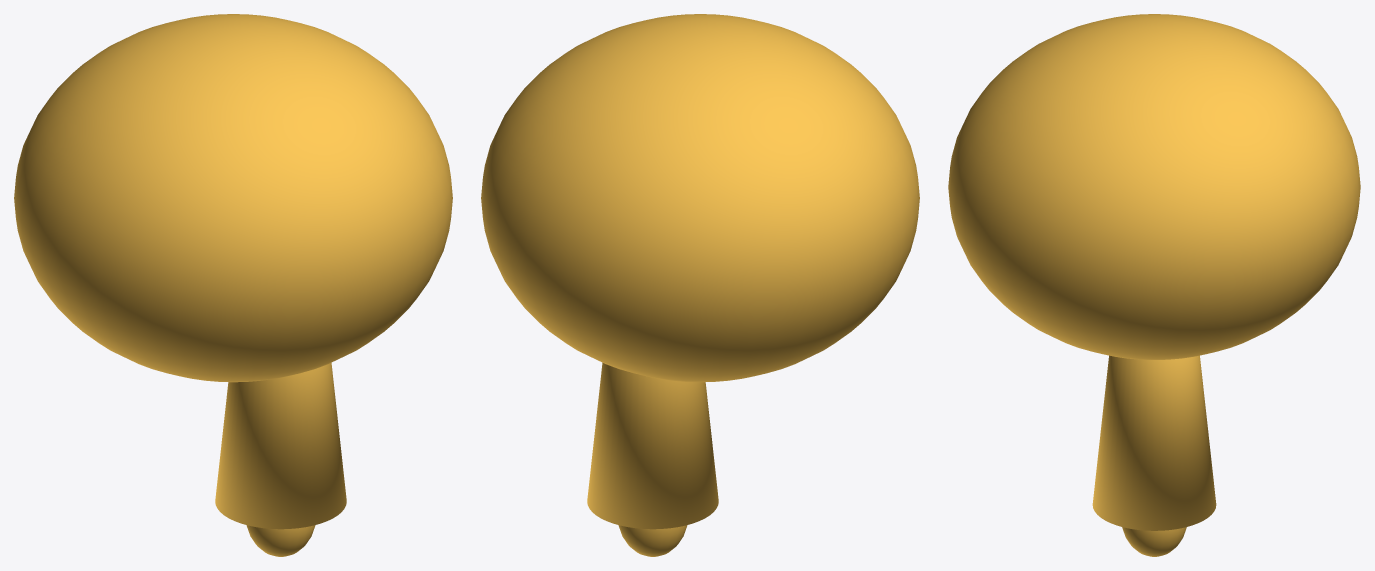
The model's file is resin.glb.
3 views of the same model, side by side, from view 1: azimuth 30°, elevation 25°; view 2: azimuth 150°, elevation 25°; view 3: azimuth 270°, elevation 25° (orthographic). The views are drawn at different scales.
Visible parts, largest first — view 1: Sphere, Cone, Sphere.001; view 2: Sphere, Cone, Sphere.001; view 3: Sphere, Cone, Sphere.001.
Part boxes in pixels (x1,y1,x2,y2): Sphere: [14, 14, 452, 382]; Cone: [215, 362, 346, 529]; Sphere.001: [246, 525, 315, 556]; Sphere: [481, 14, 919, 382]; Cone: [587, 362, 718, 529]; Sphere.001: [618, 525, 687, 556]; Sphere: [948, 14, 1360, 359]; Cone: [1092, 355, 1216, 530]; Sphere.001: [1122, 527, 1186, 556].
Size of the model in its own units: 1.08 by 1.44 by 1.08.
